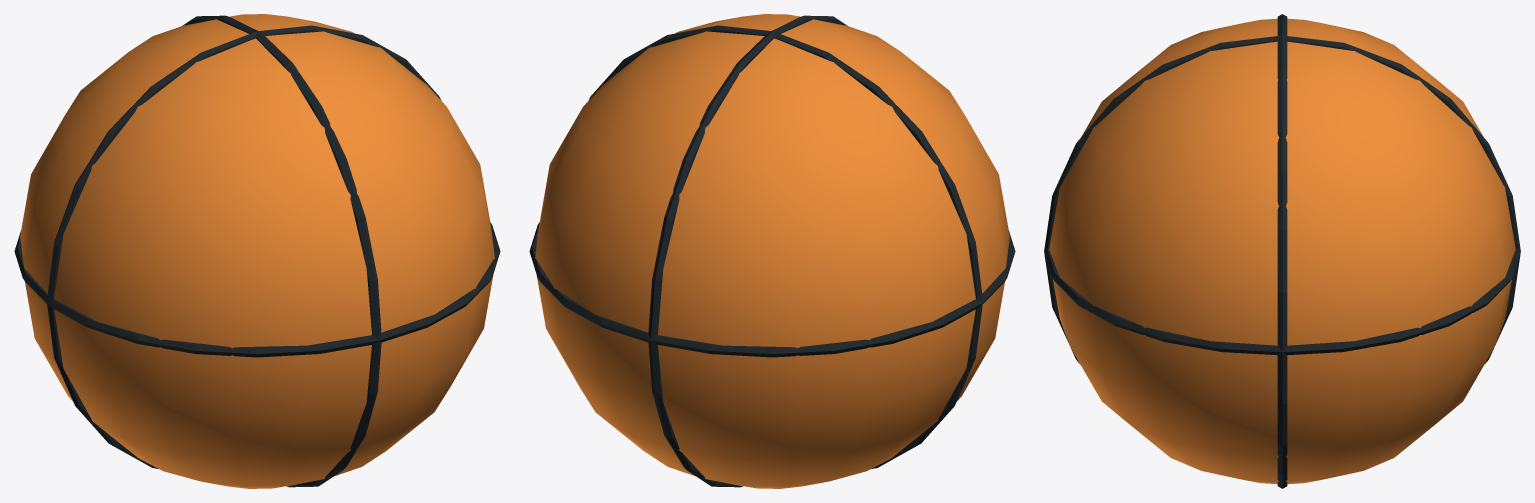
Rendered from shot_basketball.glb.
The picture shows the model from 3 angles, left to right: view 1: azimuth 30°, elevation 25°; view 2: azimuth 150°, elevation 25°; view 3: azimuth 270°, elevation 25°; orthographic projection.
Parts seen in each view (by area): view 1: shot_basketball_BasketLeather.003, shot_basketball_BallSeams.003; view 2: shot_basketball_BasketLeather.003, shot_basketball_BallSeams.003; view 3: shot_basketball_BasketLeather.003, shot_basketball_BallSeams.003.
Part boxes in pixels (left/top/right/bottom): shot_basketball_BasketLeather.003: left=20, top=14, right=494, bottom=488; shot_basketball_BallSeams.003: left=14, top=15, right=500, bottom=487; shot_basketball_BasketLeather.003: left=535, top=14, right=1009, bottom=488; shot_basketball_BallSeams.003: left=529, top=15, right=1015, bottom=487; shot_basketball_BasketLeather.003: left=1049, top=18, right=1515, bottom=484; shot_basketball_BallSeams.003: left=1044, top=14, right=1520, bottom=488.
Size of the model in its own units: 2.03 by 2.03 by 2.03.
